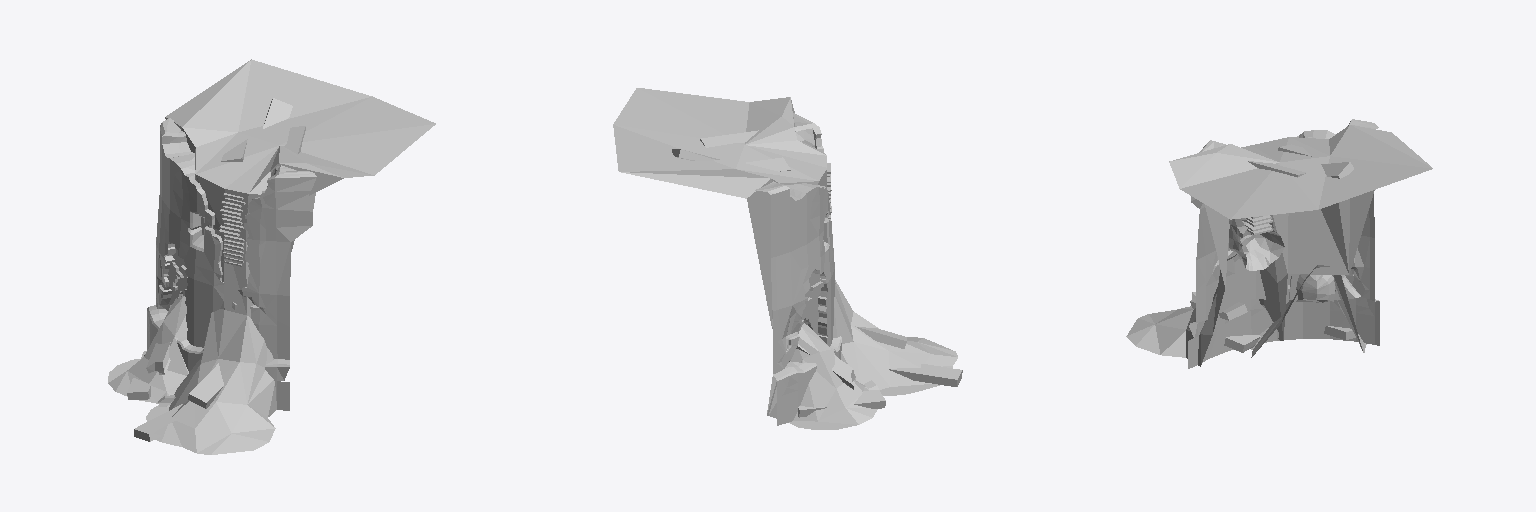
File: btowar.obj
The picture shows the model from 3 angles: view 1: azimuth 30°, elevation 25°; view 2: azimuth 150°, elevation 25°; view 3: azimuth 270°, elevation 25°; orthographic projection.
Visible parts, largest first — view 1: btower.001; view 2: btower.001; view 3: btower.001.
Boxes of the visible parts, x1,y1,x2,y2 form: btower.001: [108, 59, 435, 454]; btower.001: [613, 88, 962, 429]; btower.001: [1126, 119, 1432, 368].
Size of the model in its own units: 4.6 by 3.46 by 3.93.